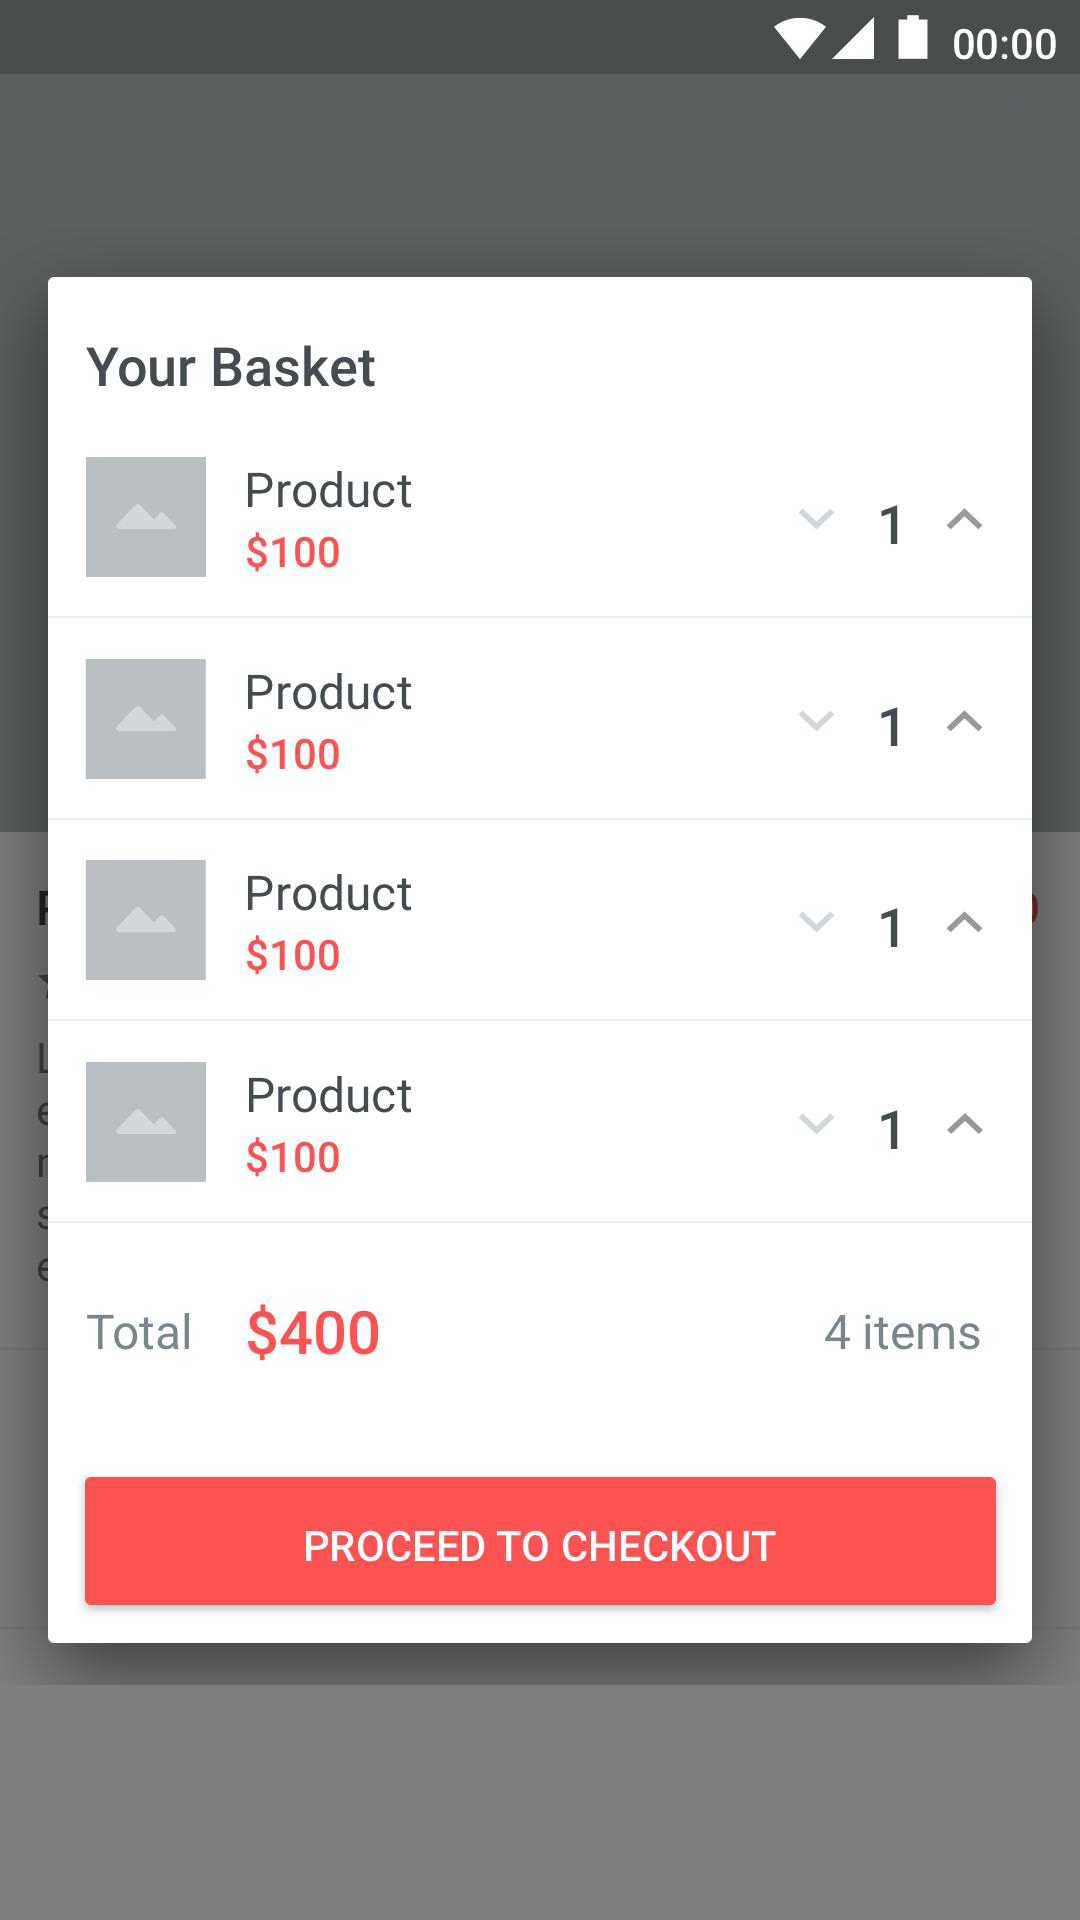Icon: (798, 506, 836, 531), (945, 709, 984, 735), (798, 910, 836, 935), (944, 508, 984, 531), (798, 709, 836, 733), (798, 1112, 836, 1135), (945, 1112, 984, 1135), (945, 911, 984, 934)
Image: (86, 659, 207, 781), (87, 858, 207, 981), (87, 1062, 207, 1183), (87, 458, 206, 578)
Modal: (47, 276, 1033, 1644)
Text: (86, 344, 377, 388), (248, 1303, 381, 1362), (247, 872, 414, 913), (247, 469, 414, 509), (247, 673, 414, 712), (247, 1075, 413, 1114), (823, 1313, 980, 1352), (86, 1312, 191, 1352), (247, 530, 342, 574), (247, 733, 342, 775), (247, 934, 342, 976), (247, 1135, 342, 1178), (880, 505, 899, 546), (880, 1109, 899, 1150), (880, 708, 899, 748), (880, 909, 899, 948)
TextButton: (84, 1476, 998, 1607)
UpperTaskBar: (3, 1, 1080, 74)
